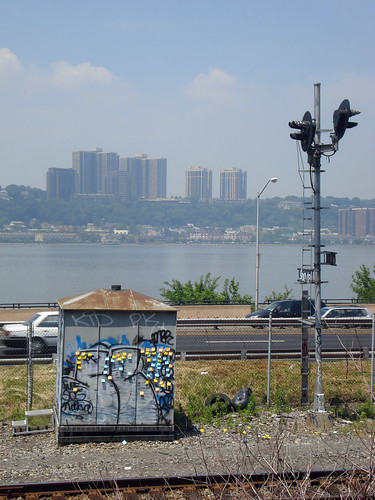building: (50, 149, 174, 196), (217, 165, 245, 207), (184, 162, 212, 204)
graffiti: (58, 304, 177, 436)
river: (1, 240, 367, 308)
sky: (1, 1, 375, 175)
train track: (7, 432, 375, 500)
